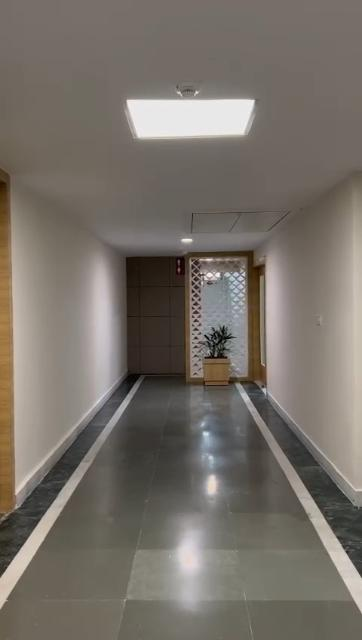door: (249, 270, 267, 382)
floor: (0, 378, 361, 639)
object: (204, 328, 232, 386)
wall: (16, 183, 124, 489), (264, 176, 362, 492)
